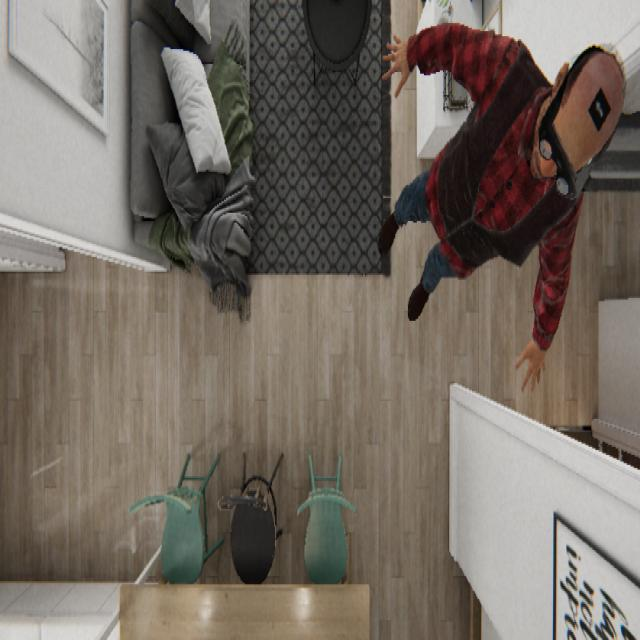Human: (377, 20, 626, 392)
UnityLogo: (586, 84, 612, 132)
